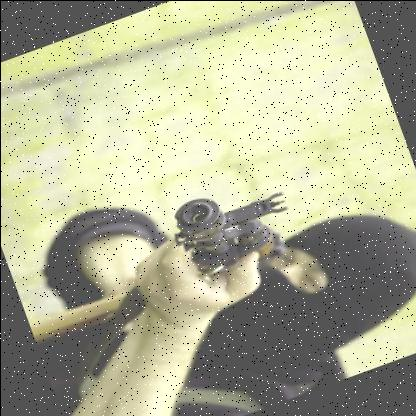rifle: (123, 161, 322, 321)
